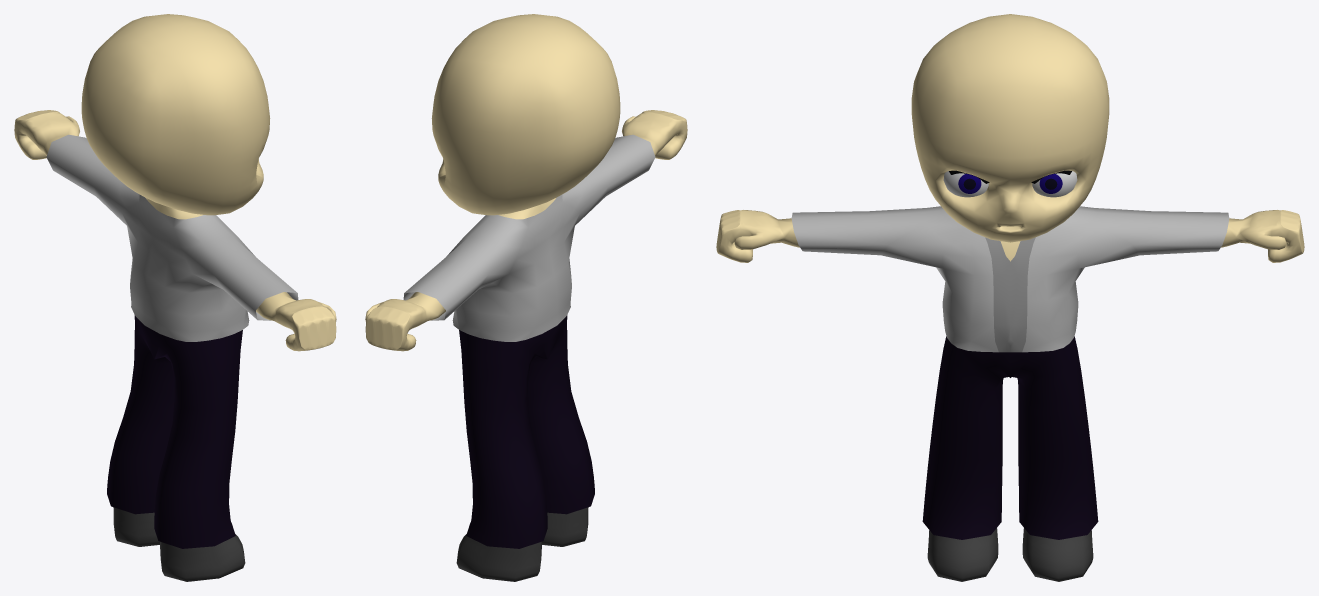
The model's file is apprenticeAgent.fbx.
3 renders of one model, left to right at view 1: azimuth 30°, elevation 25°; view 2: azimuth 150°, elevation 25°; view 3: azimuth 270°, elevation 25°, orthographic.
Parts seen in each view (by area): view 1: Head, Pants, Shirt, Body; view 2: Head, Pants, Shirt, Body; view 3: Head, Shirt, Pants, Body, Eyeball.
Boxes of the visible parts, <box> form: Head: <box>81,14,270,215</box>; Pants: <box>107,315,242,548</box>; Shirt: <box>46,134,298,341</box>; Body: <box>14,110,336,581</box>; Head: <box>431,14,620,215</box>; Pants: <box>459,315,594,548</box>; Shirt: <box>403,134,655,341</box>; Body: <box>365,110,687,581</box>; Head: <box>911,14,1109,242</box>; Shirt: <box>791,206,1229,352</box>; Pants: <box>922,336,1098,539</box>; Body: <box>716,210,1304,581</box>; Eyeball: <box>943,170,1077,197</box>.
Size of the model in its own units: 72.26 by 223 by 221.
